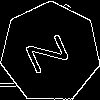Z: (25, 27, 78, 75)
